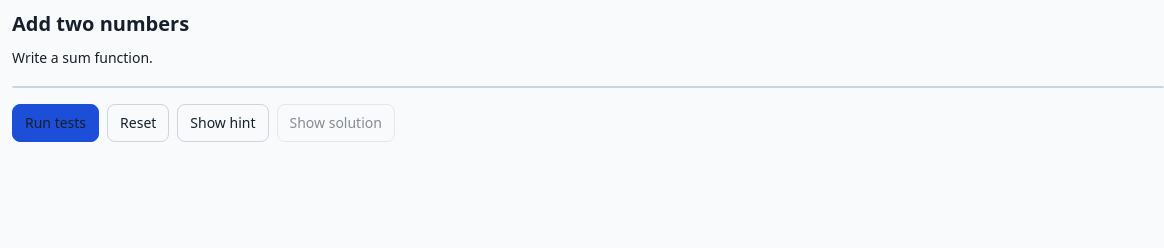
Test: CodeChallenge › shows failing test details and reports a failing result
The width and height of the screenshot is (1164, 248).
Click the button "Run tests". click: x=56, y=123
box: 12,104 -> 99,142
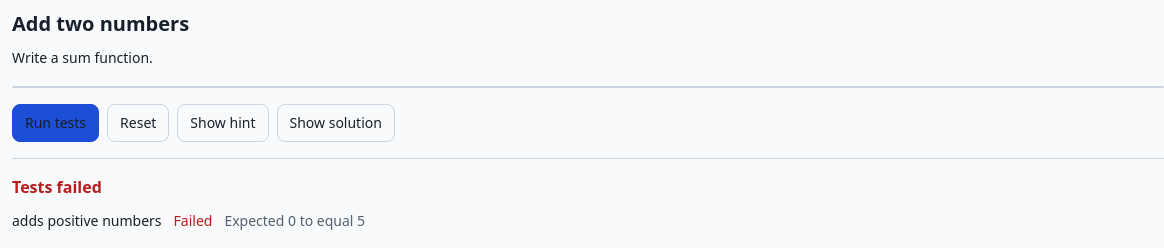
Expected: the heading "Tests failed" is shown, 12,176 -> 102,198
Expected: the text "Expected 0 to equal 5" is shown, 224,211 -> 365,231
